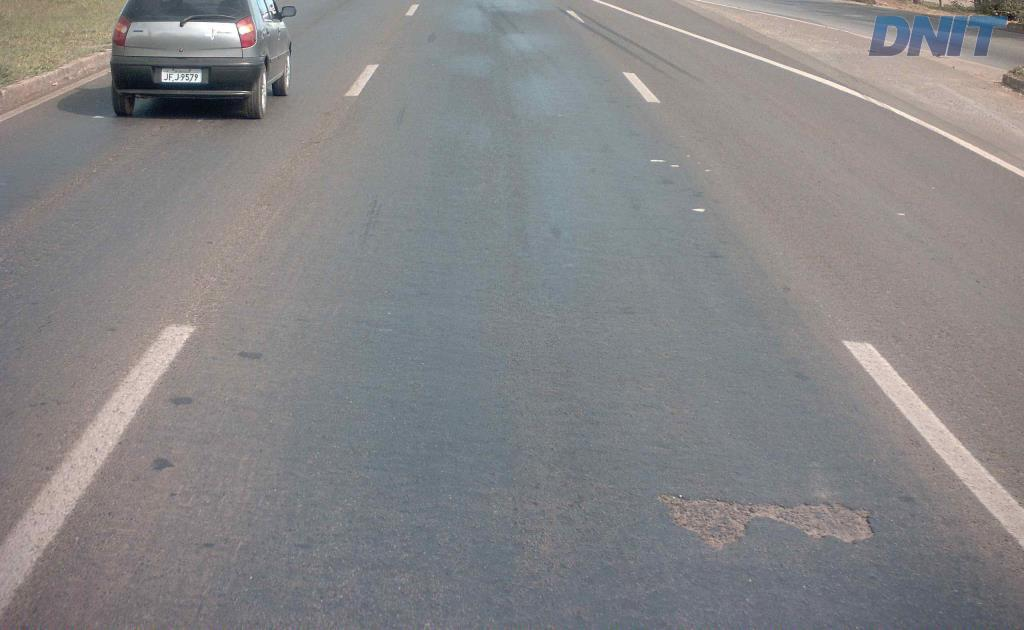pothole: (648, 481, 885, 560)
